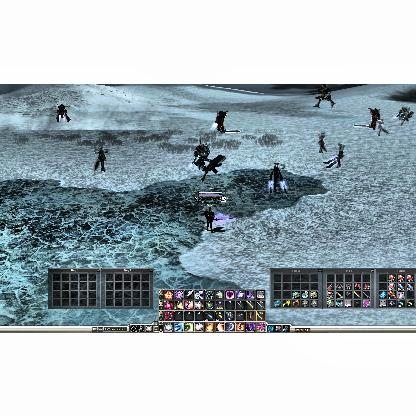caliana: (268, 162, 288, 194), (324, 143, 346, 167), (93, 146, 109, 172), (318, 131, 328, 153)
